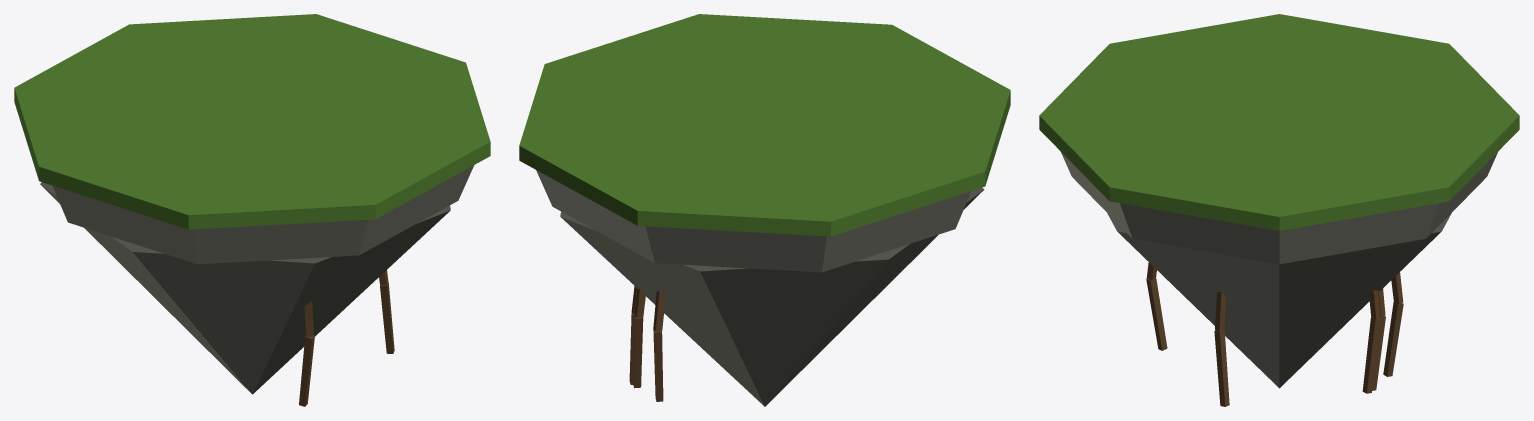
File: floating_platform.glb
3 views of the same model, side by side, from view 1: azimuth 30°, elevation 25°; view 2: azimuth 150°, elevation 25°; view 3: azimuth 270°, elevation 25° (orthographic). The views are drawn at different scales.
Parts seen in each view (by area): view 1: moss-col, stone_dark, stone-col, bark; view 2: moss-col, stone_dark, stone-col, bark; view 3: moss-col, stone_dark, stone-col, bark.
Part boxes in pixels (x1,y1,x2,y2): moss-col: (14,14,490,229); stone_dark: (40,182,450,394); stone-col: (52,165,474,264); bark: (299,270,394,406); moss-col: (519,14,1010,236); stone_dark: (560,187,984,406); stone-col: (536,170,971,272); bark: (629,286,665,401); moss-col: (1039,14,1519,230); stone_dark: (1107,213,1451,388); stone-col: (1061,152,1497,264); bark: (1146,262,1403,406).
Bounding box in the file's own units: 3.7 × 2.32 × 3.7.
